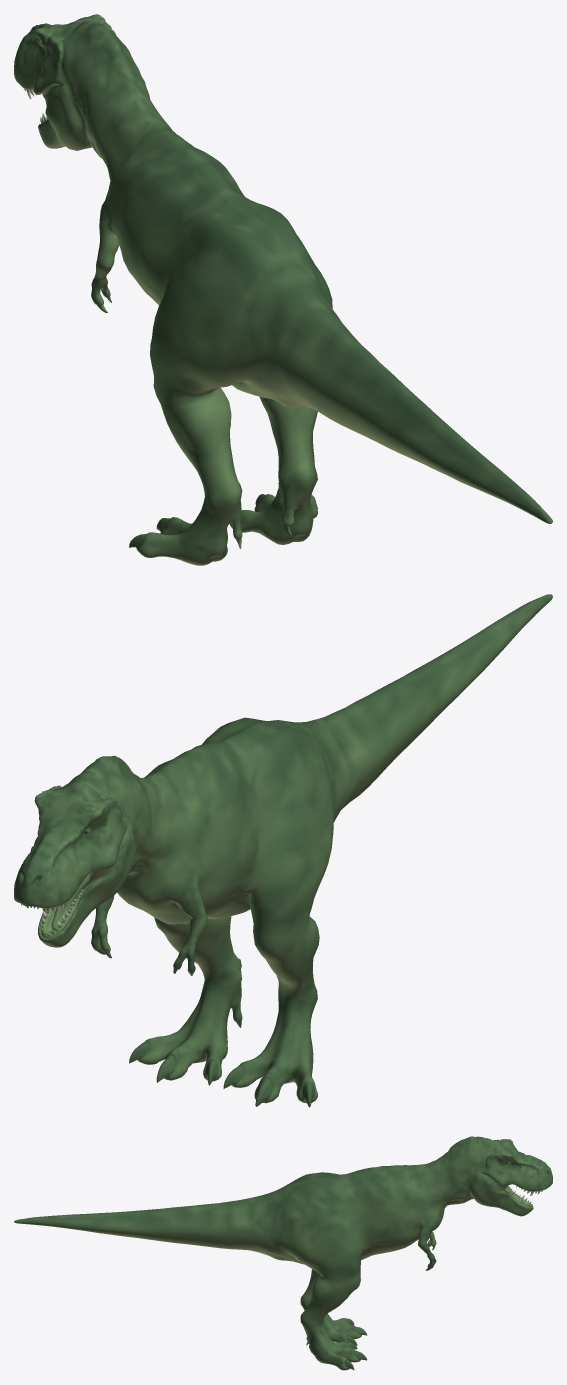
File: rex.glb
3 views of the same model, one above another, from view 1: azimuth 30°, elevation 25°; view 2: azimuth 150°, elevation 25°; view 3: azimuth 270°, elevation 25° (orthographic). The views are drawn at different scales.
Visible parts, largest first — view 1: Rex; view 2: Rex; view 3: Rex.
Part boxes in pixels (bbox=[...]): Rex: bbox=[14, 14, 552, 565]; Rex: bbox=[14, 594, 552, 1107]; Rex: bbox=[14, 1136, 552, 1370].
Bounding box in the file's own units: 2.69 × 5.89 × 13.51.
